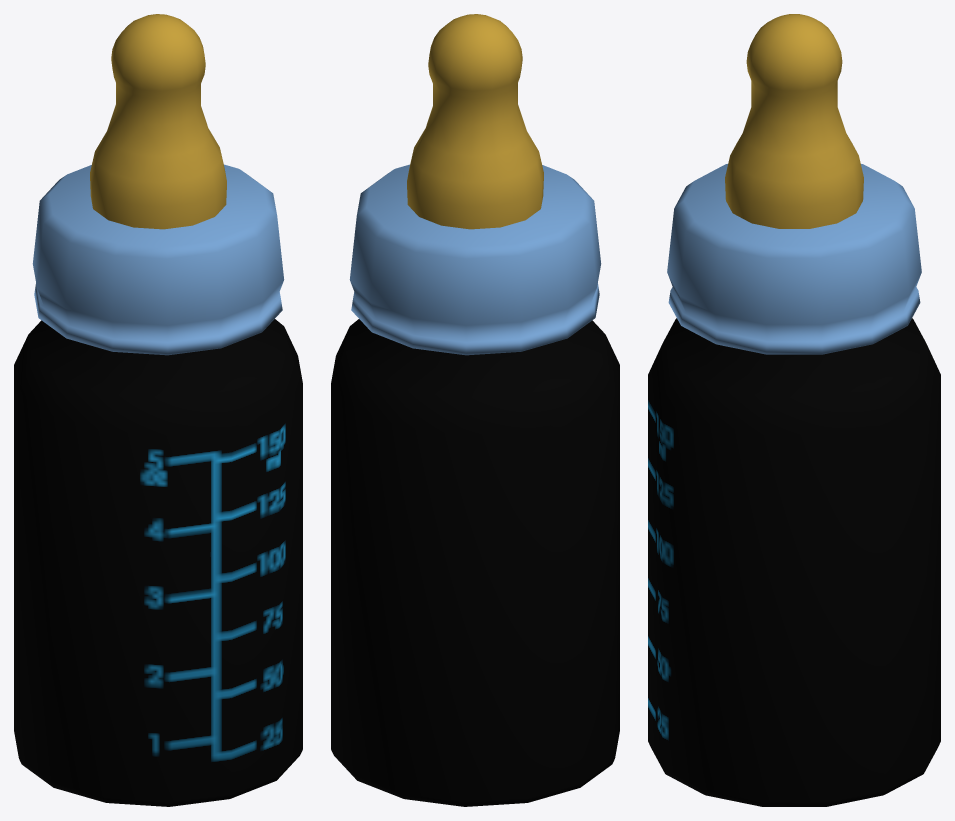
3 renders of one model, left to right at view 1: azimuth 30°, elevation 25°; view 2: azimuth 150°, elevation 25°; view 3: azimuth 270°, elevation 25°, orthographic.
Parts seen in each view (by area): view 1: Baby_Bottle; view 2: Baby_Bottle; view 3: Baby_Bottle.
Part boxes in pixels (<box>): Baby_Bottle: <box>14,14,302,806</box>; Baby_Bottle: <box>331,14,619,806</box>; Baby_Bottle: <box>648,14,940,806</box>.
Size of the model in its own units: 0.0627 by 0.1776 by 0.0643.
1 material, 1 textured.
